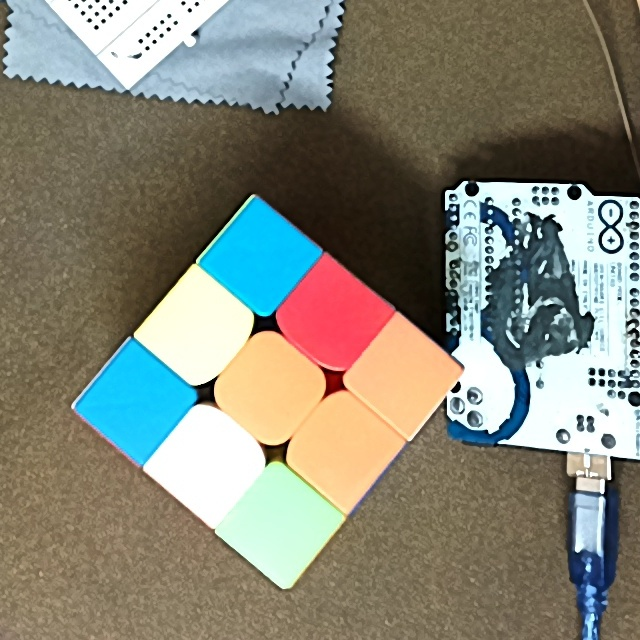tile: (310, 417, 374, 481), (251, 492, 314, 555), (237, 359, 299, 422), (181, 429, 238, 497), (375, 344, 435, 408), (302, 285, 362, 348), (229, 230, 291, 288), (106, 375, 168, 433), (168, 299, 224, 360)
